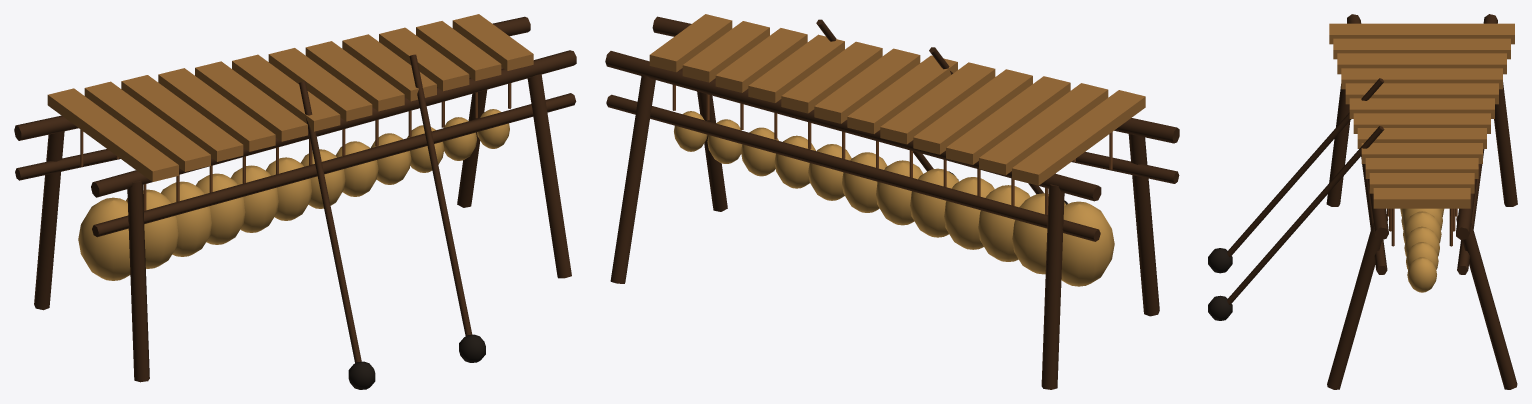
Rendered from balafon.glb.
3 views of the same model, side by side, from view 1: azimuth 30°, elevation 25°; view 2: azimuth 150°, elevation 25°; view 3: azimuth 270°, elevation 25° (orthographic). The views are drawn at different scales.
Visible parts, largest first — view 1: balafon; view 2: balafon; view 3: balafon.
Part boxes in pixels (<box>): balafon: <box>14,14,576,389</box>; balafon: <box>605,14,1179,389</box>; balafon: <box>1208,14,1517,389</box>.
Bounding box in the file's own units: 1.25 × 0.5685 × 0.7674.
